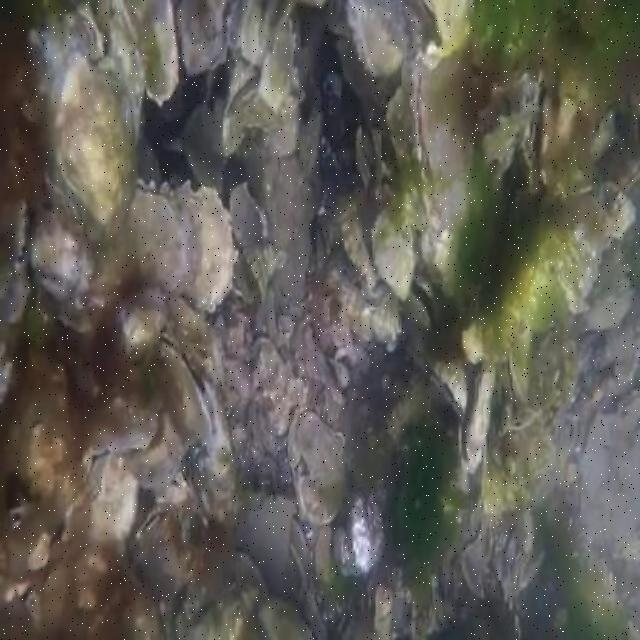Oyster-Closed: (41, 45, 136, 246), (414, 42, 475, 232), (123, 176, 208, 294), (170, 184, 235, 319), (283, 405, 348, 528), (176, 553, 268, 638), (192, 405, 238, 525), (30, 217, 91, 305), (335, 489, 387, 581), (87, 393, 164, 455), (349, 0, 410, 74), (372, 207, 416, 298), (340, 194, 377, 283), (1, 201, 30, 292), (259, 597, 309, 638), (75, 11, 103, 64)
Oyster-Open: (159, 333, 220, 442), (475, 77, 541, 177), (458, 361, 496, 475), (525, 58, 556, 194), (428, 357, 469, 418), (501, 328, 531, 408), (406, 276, 438, 329), (136, 510, 164, 541)
